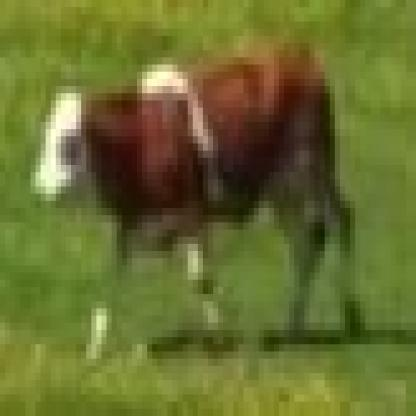cow: (33, 39, 363, 355)
